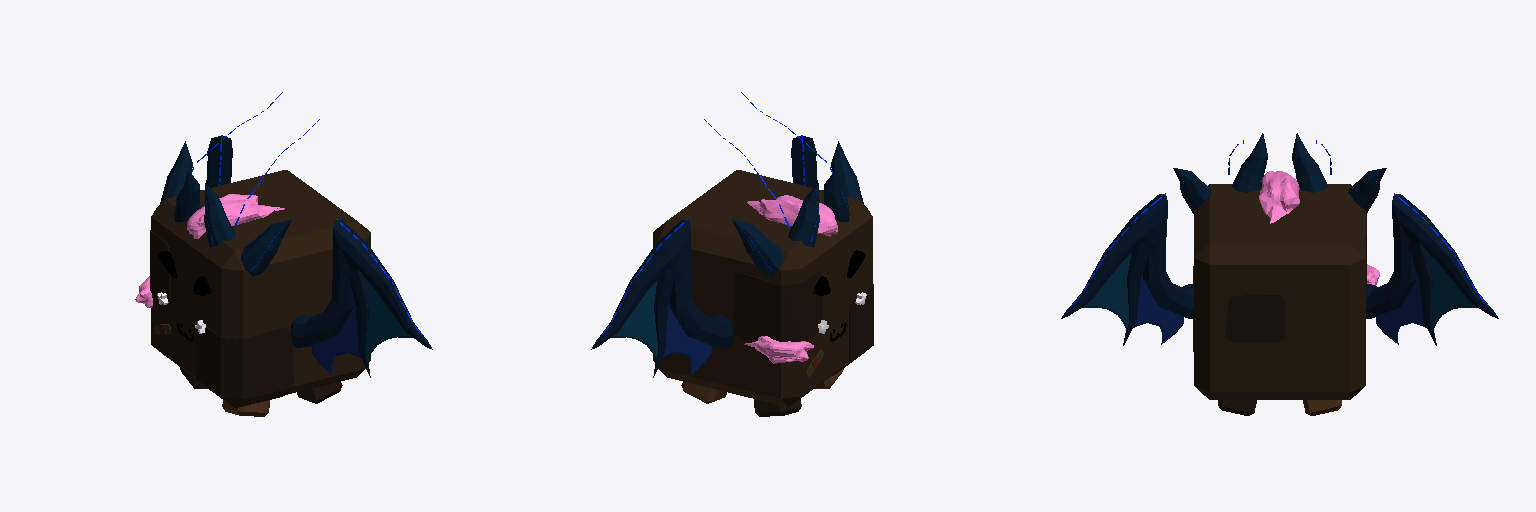
Rendered from PuppetDragon.obj.
The picture shows the model from 3 angles: view 1: azimuth 30°, elevation 25°; view 2: azimuth 150°, elevation 25°; view 3: azimuth 270°, elevation 25°; orthographic projection.
Visible parts, largest first — view 1: MeshPart8, MeshPart13, MeshPart19, MeshPart12, MeshPart15, MeshPart10, MeshPart5, MeshPart1, MeshPart9; view 2: MeshPart8, MeshPart13, MeshPart19, MeshPart12, MeshPart15, MeshPart10, MeshPart5, MeshPart17, MeshPart3, MeshPart1, MeshPart9; view 3: MeshPart8, MeshPart13, MeshPart12, MeshPart19, MeshPart10, MeshPart5, MeshPart15.
Boxes of the visible parts, x1,y1,x2,y2 form: MeshPart8: [151, 170, 370, 394]; MeshPart13: [206, 136, 432, 377]; MeshPart19: [150, 230, 293, 407]; MeshPart12: [160, 141, 291, 275]; MeshPart15: [187, 194, 284, 238]; MeshPart10: [366, 281, 412, 358]; MeshPart5: [312, 302, 360, 374]; MeshPart1: [180, 367, 342, 403]; MeshPart9: [158, 251, 211, 295]; MeshPart8: [653, 170, 872, 406]; MeshPart13: [591, 136, 817, 377]; MeshPart19: [733, 271, 873, 375]; MeshPart12: [732, 141, 863, 275]; MeshPart15: [747, 195, 837, 236]; MeshPart10: [611, 281, 657, 358]; MeshPart5: [663, 302, 711, 374]; MeshPart17: [744, 336, 813, 363]; MeshPart3: [681, 369, 843, 403]; MeshPart1: [754, 399, 801, 416]; MeshPart9: [813, 250, 865, 295]; MeshPart8: [1194, 184, 1365, 399]; MeshPart13: [1061, 194, 1498, 345]; MeshPart12: [1173, 133, 1386, 213]; MeshPart19: [1193, 214, 1366, 351]; MeshPart10: [1082, 253, 1477, 329]; MeshPart5: [1133, 274, 1426, 344]; MeshPart15: [1259, 171, 1299, 223].
Bounding box in the file's own units: 2.57 × 4.24 × 6.04.